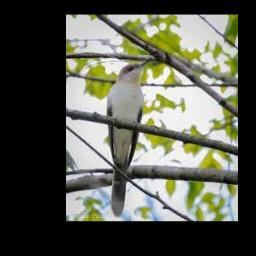Cuckoo: (108, 61, 150, 216)
